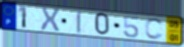0: (93, 12, 112, 38)
1: (18, 5, 28, 30)
5: (123, 15, 140, 39)
C: (144, 17, 166, 41)
I: (76, 10, 83, 35)
X: (40, 6, 62, 33)
